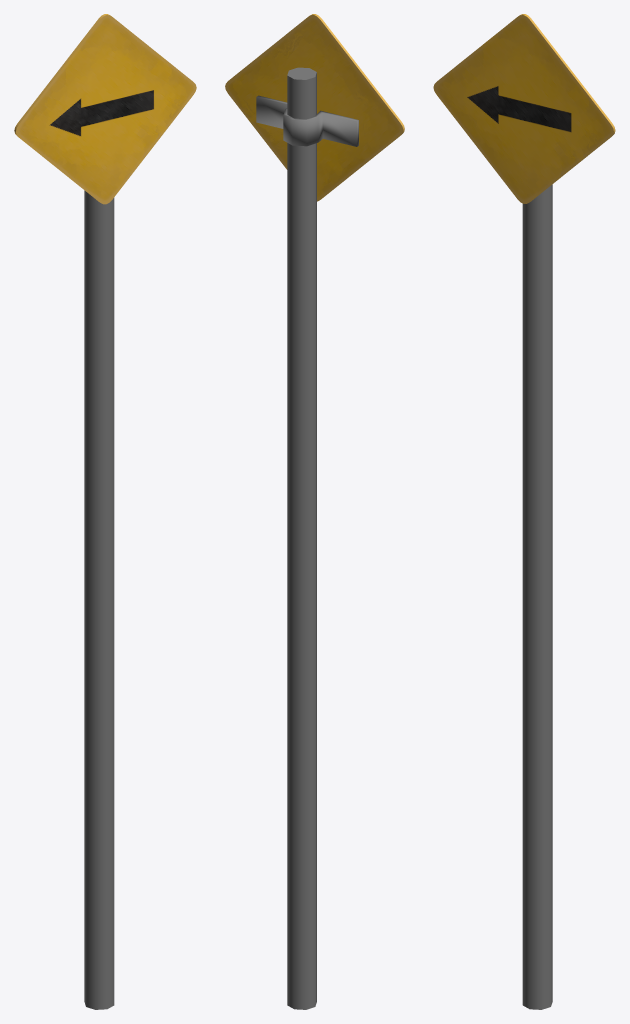
The model's file is SM_sign_traffic_012.fbx.
The picture shows the model from 3 angles, left to right: view 1: azimuth 30°, elevation 25°; view 2: azimuth 150°, elevation 25°; view 3: azimuth 330°, elevation 25°; orthographic projection.
Parts seen in each view (by area): view 1: Object32699; view 2: Object32699; view 3: Object32699.
Boxes of the visible parts, x1=… form: Object32699: x1=14, y1=14, x2=196, y2=1009; Object32699: x1=225, y1=14, x2=404, y2=1009; Object32699: x1=433, y1=14, x2=615, y2=1009.
Bounding box in the file's own units: 21.18 × 112 × 4.08.
